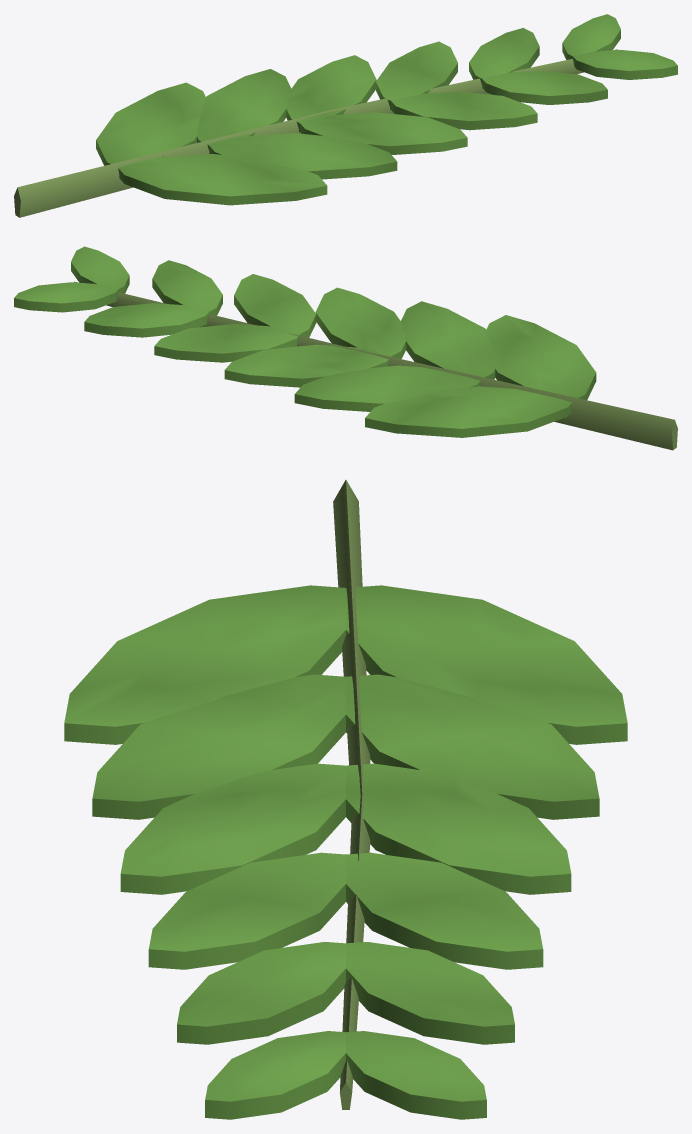
File: cliff_garden_herb.glb
3 views of the same model, one above another, from view 1: azimuth 30°, elevation 25°; view 2: azimuth 150°, elevation 25°; view 3: azimuth 270°, elevation 25° (orthographic). The views are drawn at different scales.
Visible parts, largest first — view 1: cliff_garden_herb; view 2: cliff_garden_herb; view 3: cliff_garden_herb.
Part boxes in pixels (x1,y1,x2,y2): cliff_garden_herb: (14, 14, 677, 217); cliff_garden_herb: (14, 246, 677, 450); cliff_garden_herb: (64, 480, 627, 1119).
Bounding box in the file's own units: 0.09 × 0.004 × 0.035.
